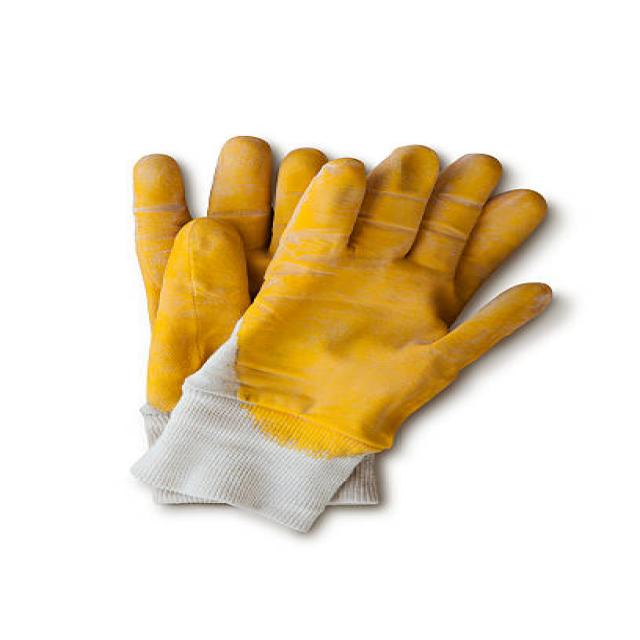Gloves: (122, 121, 594, 535)
